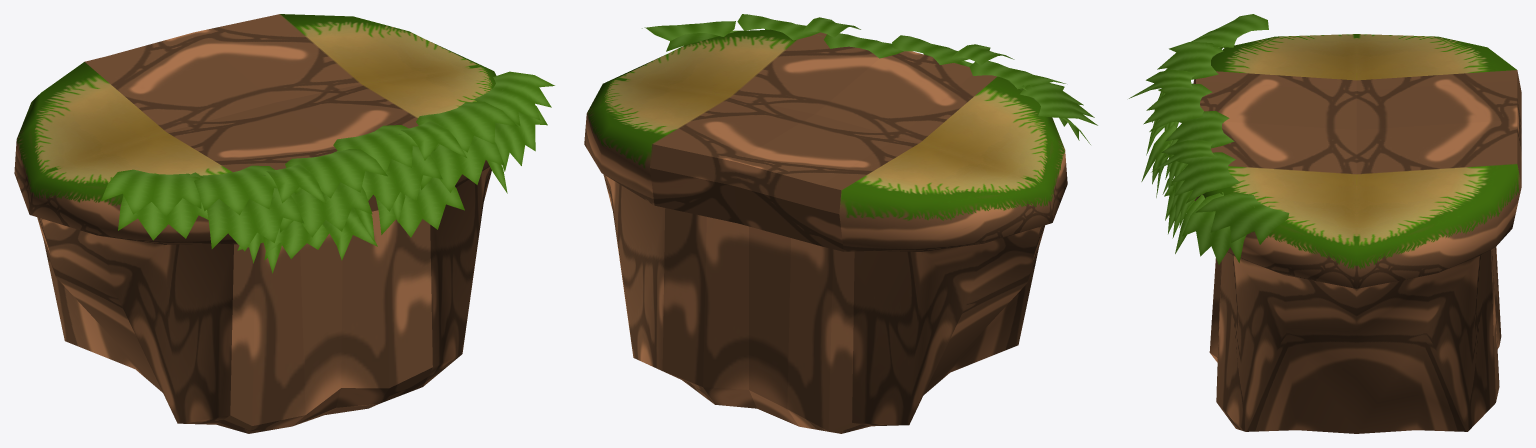
File: miniplataforma.FBX
The picture shows the model from 3 angles, left to right: view 1: azimuth 30°, elevation 25°; view 2: azimuth 150°, elevation 25°; view 3: azimuth 270°, elevation 25°; orthographic projection. The views are drawn at different scales.
Visible parts, largest first — view 1: miniplat, miniplat_hierba; view 2: miniplat, miniplat_hierba; view 3: miniplat, miniplat_hierba.
Part boxes in pixels (<box>): miniplat: <box>14,14,496,433</box>; miniplat_hierba: <box>101,71,554,273</box>; miniplat: <box>584,29,1067,433</box>; miniplat_hierba: <box>642,14,1097,144</box>; miniplat: <box>1193,34,1521,433</box>; miniplat_hierba: <box>1129,14,1289,264</box>.
Size of what is drawn, in the model's own units: 21.03 by 12.54 by 15.28.
